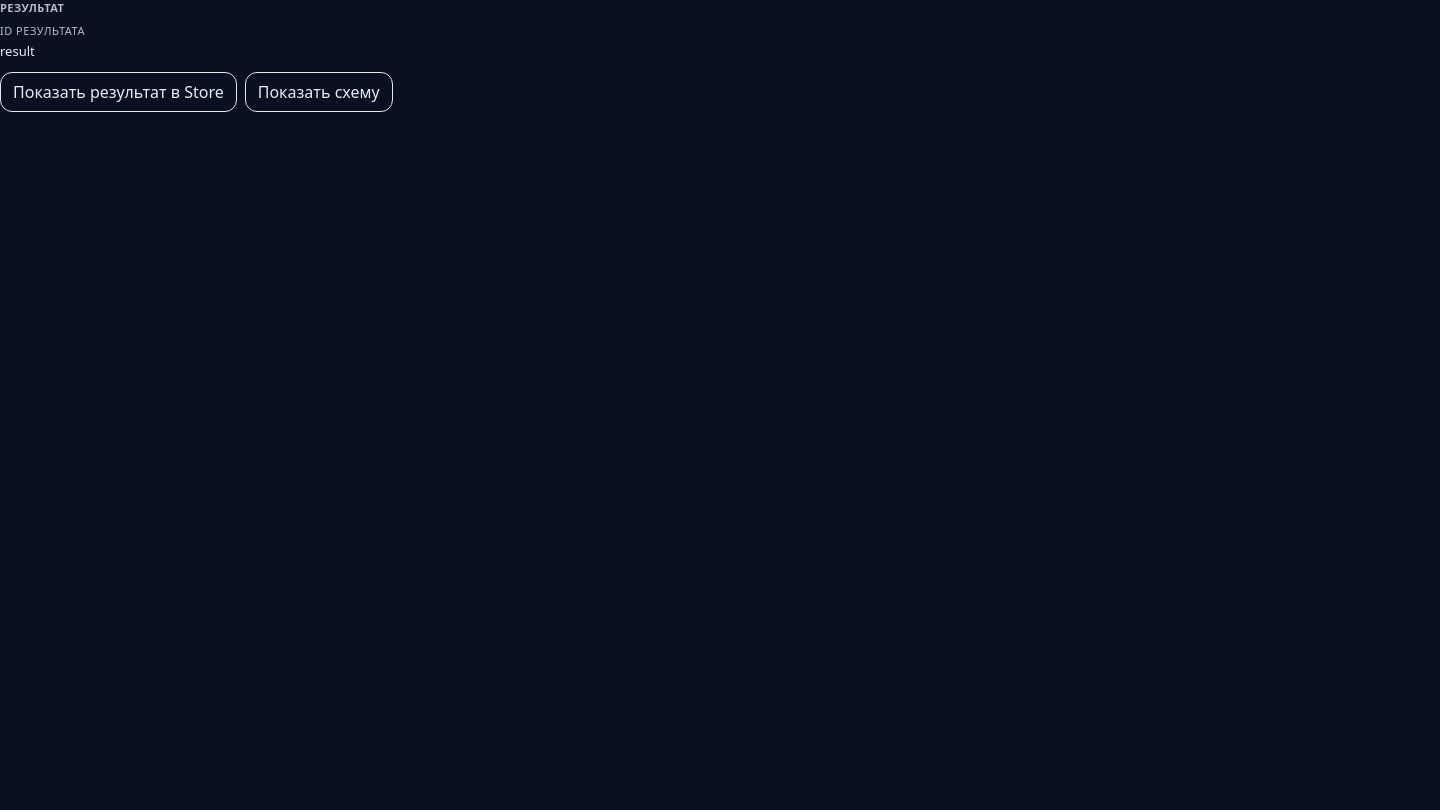
Test case: StoredResultCard › reports a result that changed before reading and offers reload
This screenshot has width=1440, height=810.
Click the button "Показать результат в Store". click: [118, 92]
box: [0,72,237,112]
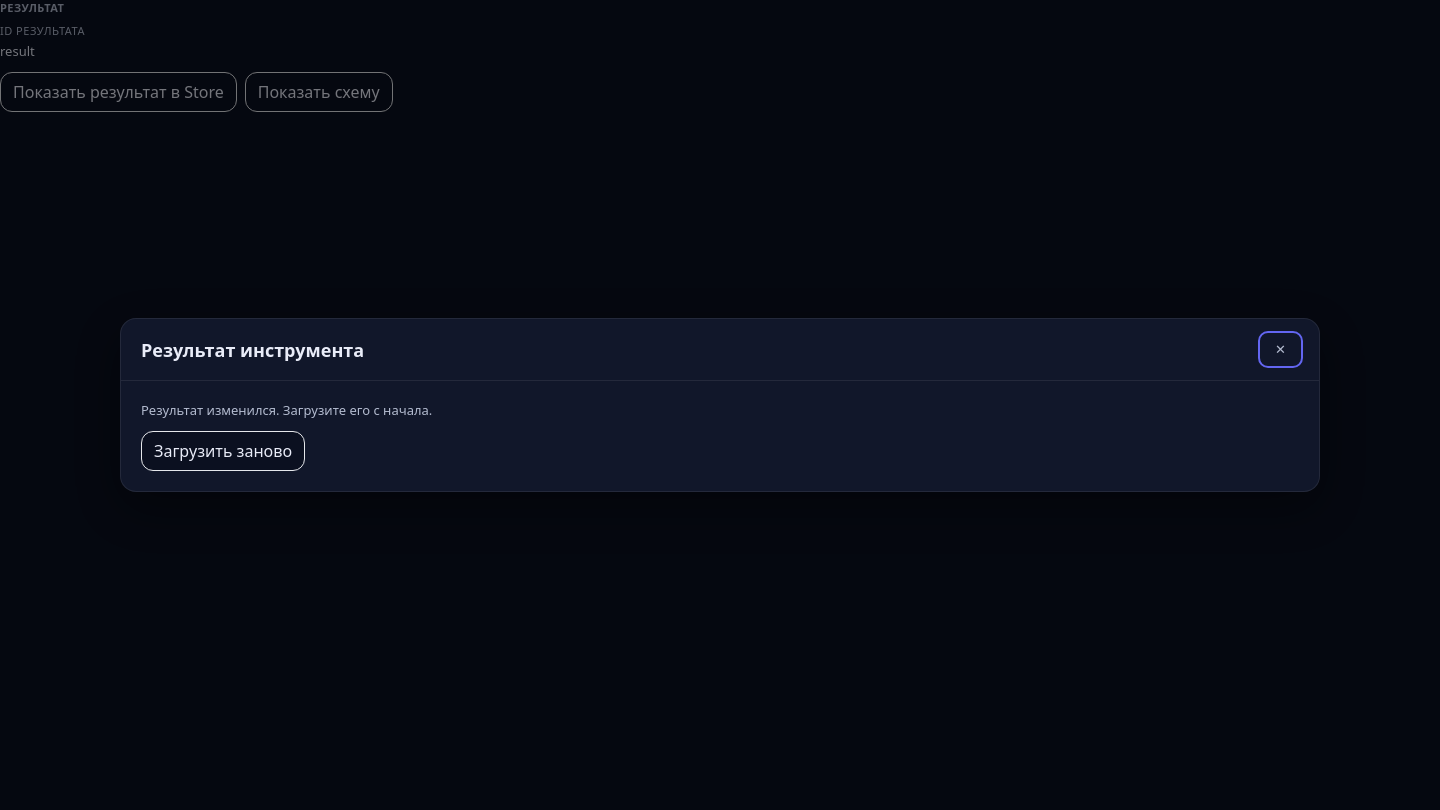
Now the text "Результат изменился. Загрузите его с начала." is shown, box [141,401,432,419]
Now the button "Загрузить заново" is shown, box [141,431,305,471]
